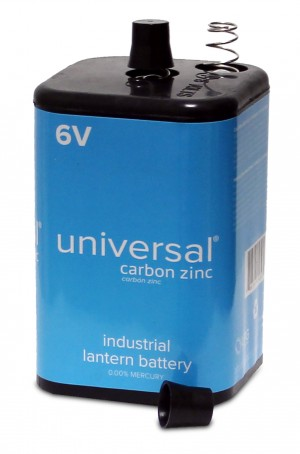6V: (22, 15, 273, 428)
